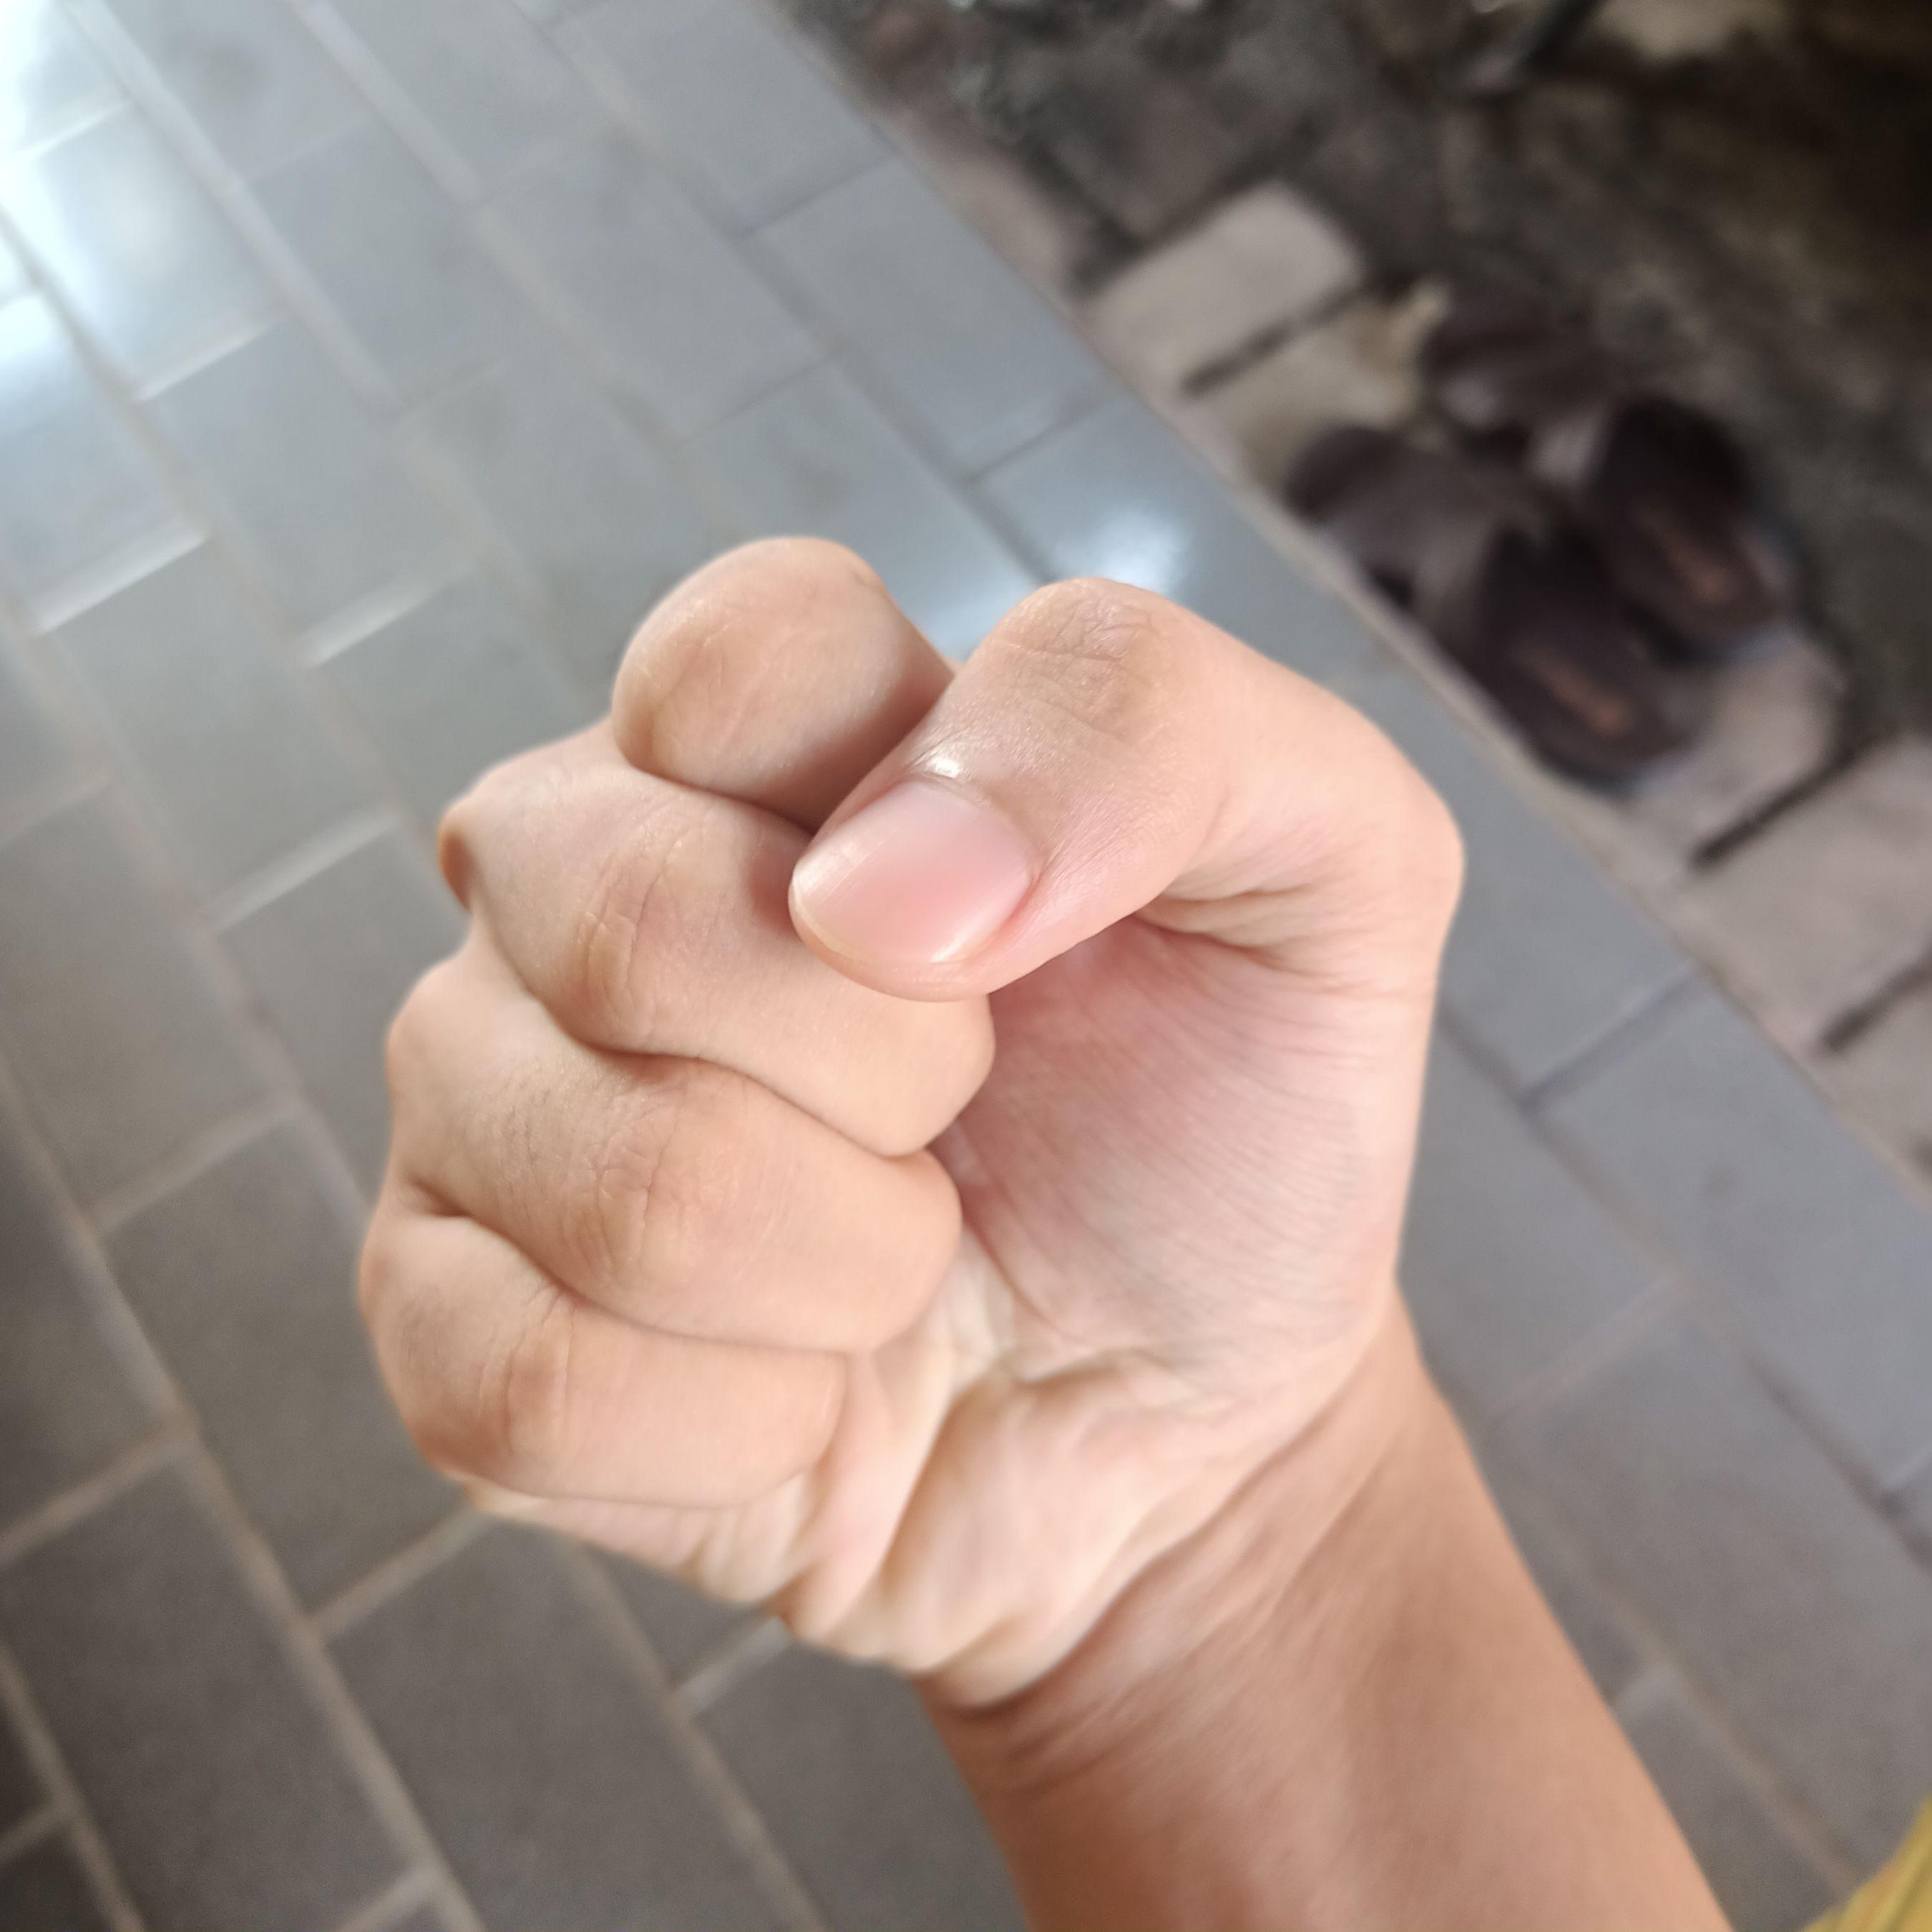rock: (320, 499, 1513, 1736)
